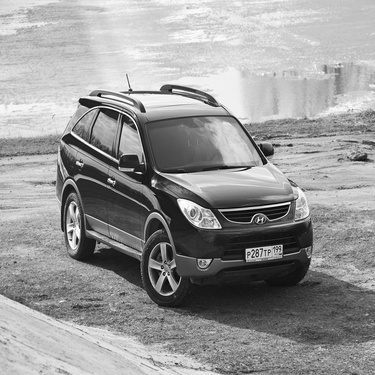car: (58, 78, 323, 302)
